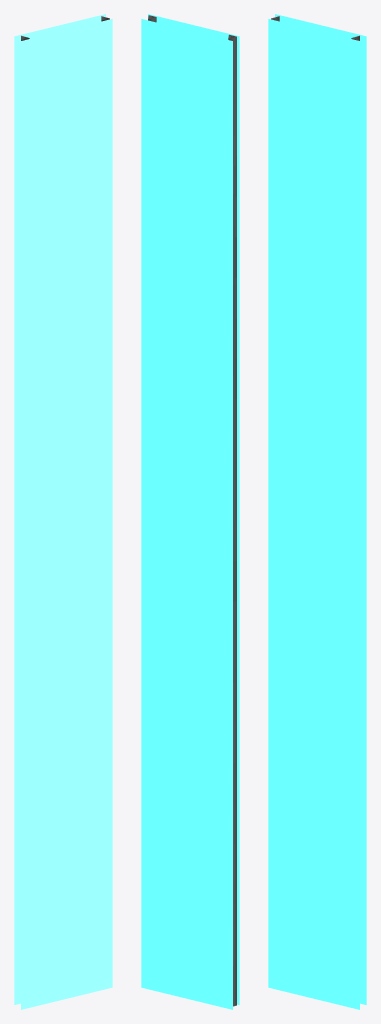
Rendered from yt1300_ladder_l3.fbx.
The picture shows the model from 3 angles, left to right: view 1: azimuth 30°, elevation 25°; view 2: azimuth 150°, elevation 25°; view 3: azimuth 330°, elevation 25°; orthographic projection.
Parts seen in each view (by area): view 1: mesh_node; view 2: mesh_node; view 3: mesh_node.
Boxes of the visible parts, x1,y1,x2,y2 form: mesh_node: (14, 14, 112, 1009); mesh_node: (141, 14, 239, 1009); mesh_node: (268, 14, 366, 1009).
Size of the model in its own units: 0.5345 by 5.4 by 0.0664.
2 materials, 1 textured.
